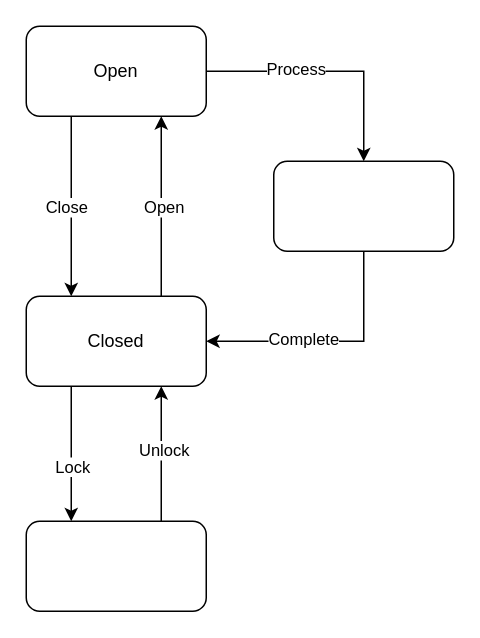
Some shapes in this 480 by 638 pixel diagram are drawn without their labels. The box of each missing label's shape, as (x1, y1, x2, y2) in pixels:
Locked: (25, 520, 206, 611)
Processed: (272, 160, 454, 251)
